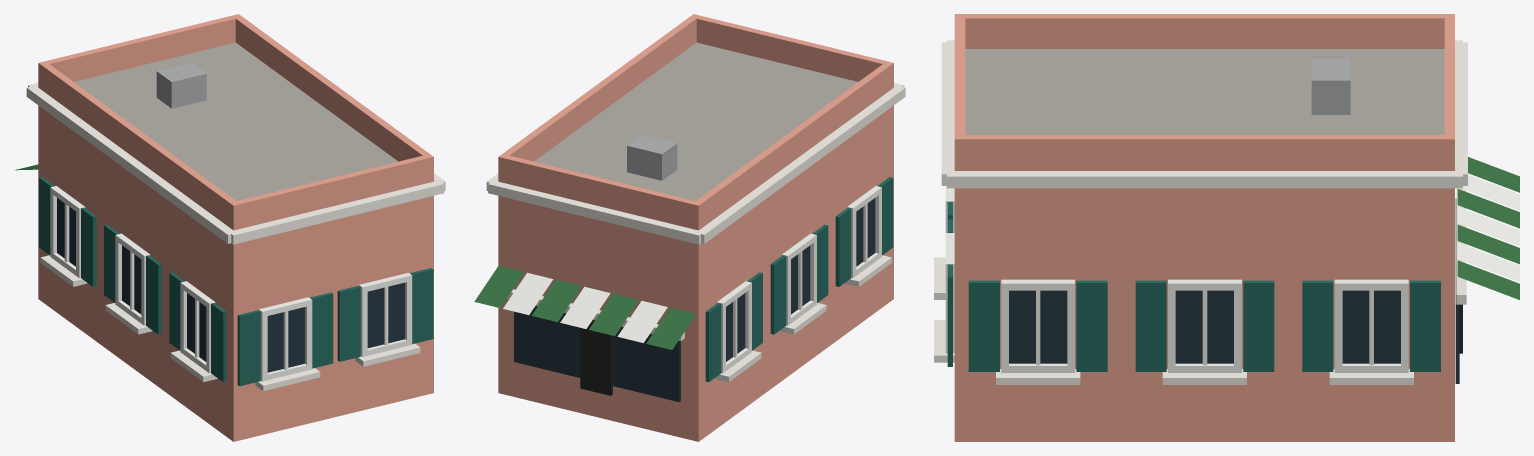
3 views of the same model, side by side, from view 1: azimuth 30°, elevation 25°; view 2: azimuth 150°, elevation 25°; view 3: azimuth 270°, elevation 25° (orthographic). The views are drawn at different scales.
Visible parts, largest first — view 1: b9779; view 2: b9779; view 3: b9779.
Boxes of the visible parts, x1=… form: b9779: x1=15, y1=14, x2=445, y2=441; b9779: x1=474, y1=14, x2=905, y2=441; b9779: x1=934, y1=14, x2=1519, y2=441.
Size of the model in its own units: 2606 by 2606 by 4519.
